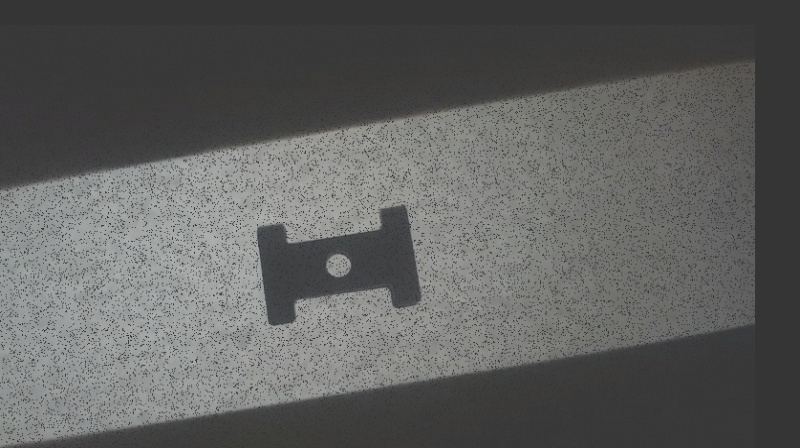O002: (253, 203, 423, 327)
